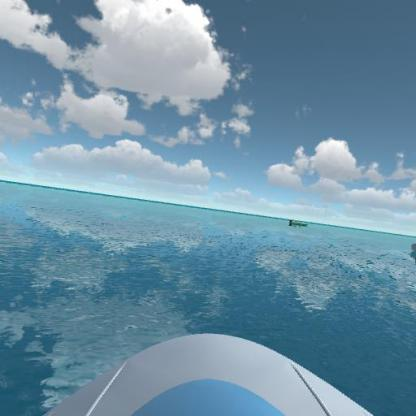usv0: (287, 217, 310, 231)
